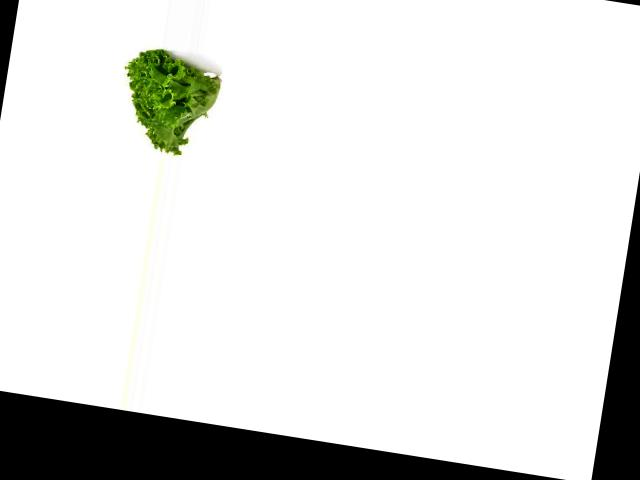lettuce: (107, 43, 231, 164)
